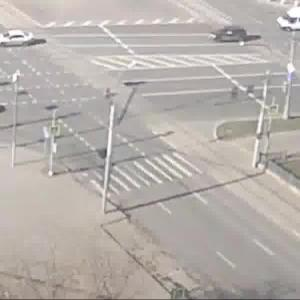car: (204, 26, 257, 45), (1, 32, 43, 48), (276, 6, 300, 32)
